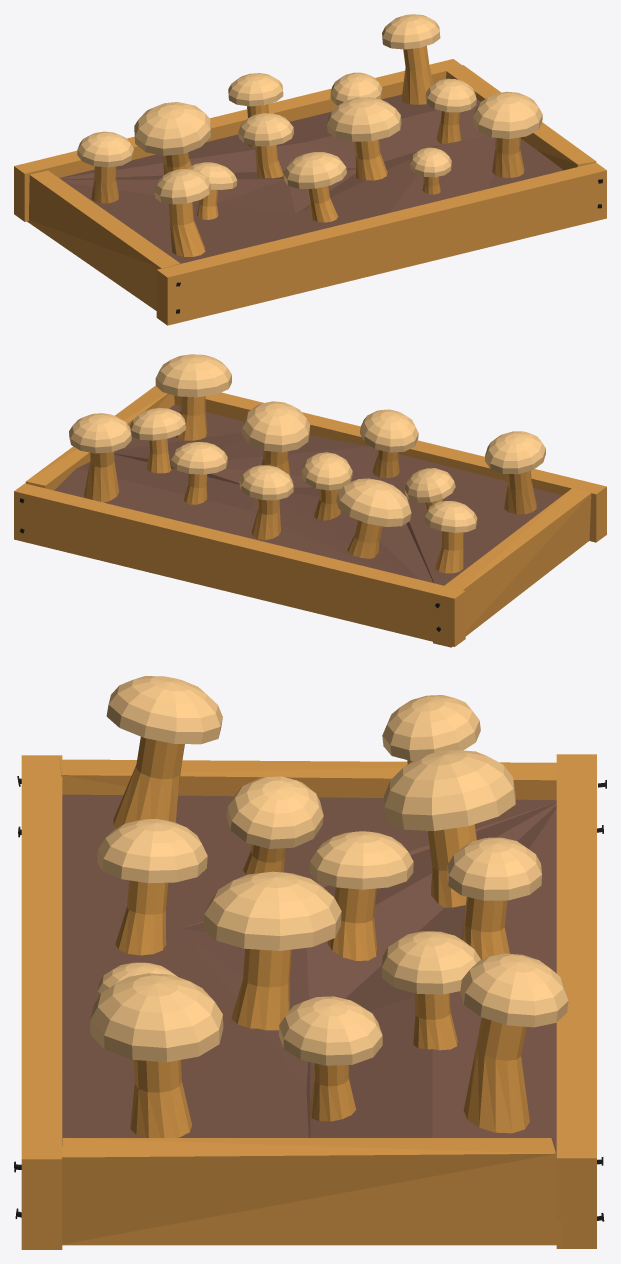
Rendered from mushroom_grow_box-8_olgRpZZfX.glb.
3 renders of one model, top to bottom at view 1: azimuth 30°, elevation 25°; view 2: azimuth 150°, elevation 25°; view 3: azimuth 270°, elevation 25°, orthographic. The views are drawn at different scales.
Visible parts, largest first — view 1: group1562995902, group741744991, group1054162874, group688318251, group1306787597, group1964717271, group1357838827, group1707593306, group1362424701, group529281545, group1592618183, group1210717342 (+2 smaller); view 2: group1562995902, group1054162874, group688318251, group1306787597, group1964717271, group741744991, group1357838827, group1592618183, group1707593306, group1362424701, group529281545, group978247246 (+1 smaller); view 3: group1562995902, group688318251, group741744991, group1306787597, group1054162874, group1964717271, group1357838827, group529281545, group1362424701, group1592618183, group978247246, group1210717342 (+2 smaller).
Boxes of the visible parts, <box> form: group1562995902: <box>14,59,606,325</box>; group741744991: <box>327,97,401,180</box>; group1054162874: <box>134,102,210,174</box>; group688318251: <box>472,91,542,177</box>; group1306787597: <box>382,14,440,104</box>; group1964717271: <box>154,169,210,256</box>; group1357838827: <box>283,152,346,222</box>; group1707593306: <box>77,131,133,203</box>; group1362424701: <box>238,113,293,178</box>; group529281545: <box>425,78,476,144</box>; group1592618183: <box>228,73,283,147</box>; group1210717342: <box>187,162,237,219</box>; group1562995902: <box>14,386,606,647</box>; group1054162874: <box>336,478,411,558</box>; group688318251: <box>155,354,231,440</box>; group1306787597: <box>69,413,131,502</box>; group1964717271: <box>485,431,545,514</box>; group741744991: <box>242,401,310,476</box>; group1357838827: <box>360,409,418,478</box>; group1592618183: <box>239,465,293,539</box>; group1707593306: <box>424,501,477,573</box>; group1362424701: <box>301,452,352,520</box>; group529281545: <box>130,408,185,473</box>; group978247246: <box>171,442,227,504</box>; group1562995902: <box>14,754,606,1249</box>; group688318251: <box>90,973,223,1137</box>; group741744991: <box>203,871,341,1030</box>; group1306787597: <box>460,953,568,1133</box>; group1054162874: <box>384,750,515,907</box>; group1964717271: <box>106,676,222,828</box>; group1357838827: <box>97,819,207,955</box>; group529281545: <box>279,996,382,1121</box>; group1362424701: <box>309,831,413,960</box>; group1592618183: <box>447,837,541,959</box>; group978247246: <box>381,931,480,1050</box>; group1210717342: <box>226,776,323,874</box>.
Size of the model in its own units: 4.98 by 1.34 by 3.08.
